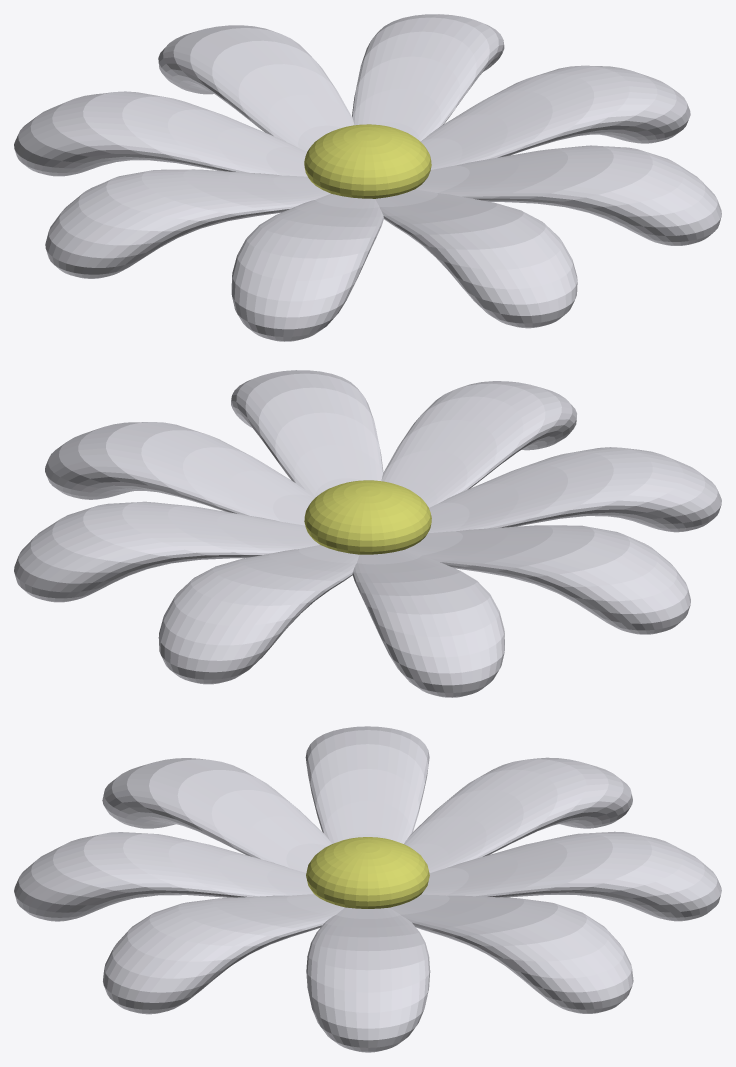
The model's file is white_daisy.fbx.
3 views of the same model, one above another, from view 1: azimuth 30°, elevation 25°; view 2: azimuth 150°, elevation 25°; view 3: azimuth 270°, elevation 25° (orthographic). The views are drawn at different scales.
Visible parts, largest first — view 1: Sphere.008, Sphere.001; view 2: Sphere.008, Sphere.001; view 3: Sphere.008, Sphere.001.
Part boxes in pixels (x1,y1,x2,y2): Sphere.008: (14,14,721,341); Sphere.001: (304,124,431,198); Sphere.008: (14,370,721,697); Sphere.001: (304,480,431,554); Sphere.008: (14,726,721,1052); Sphere.001: (306,837,429,908).
Size of the model in its own units: 1142 by 122 by 1142.
